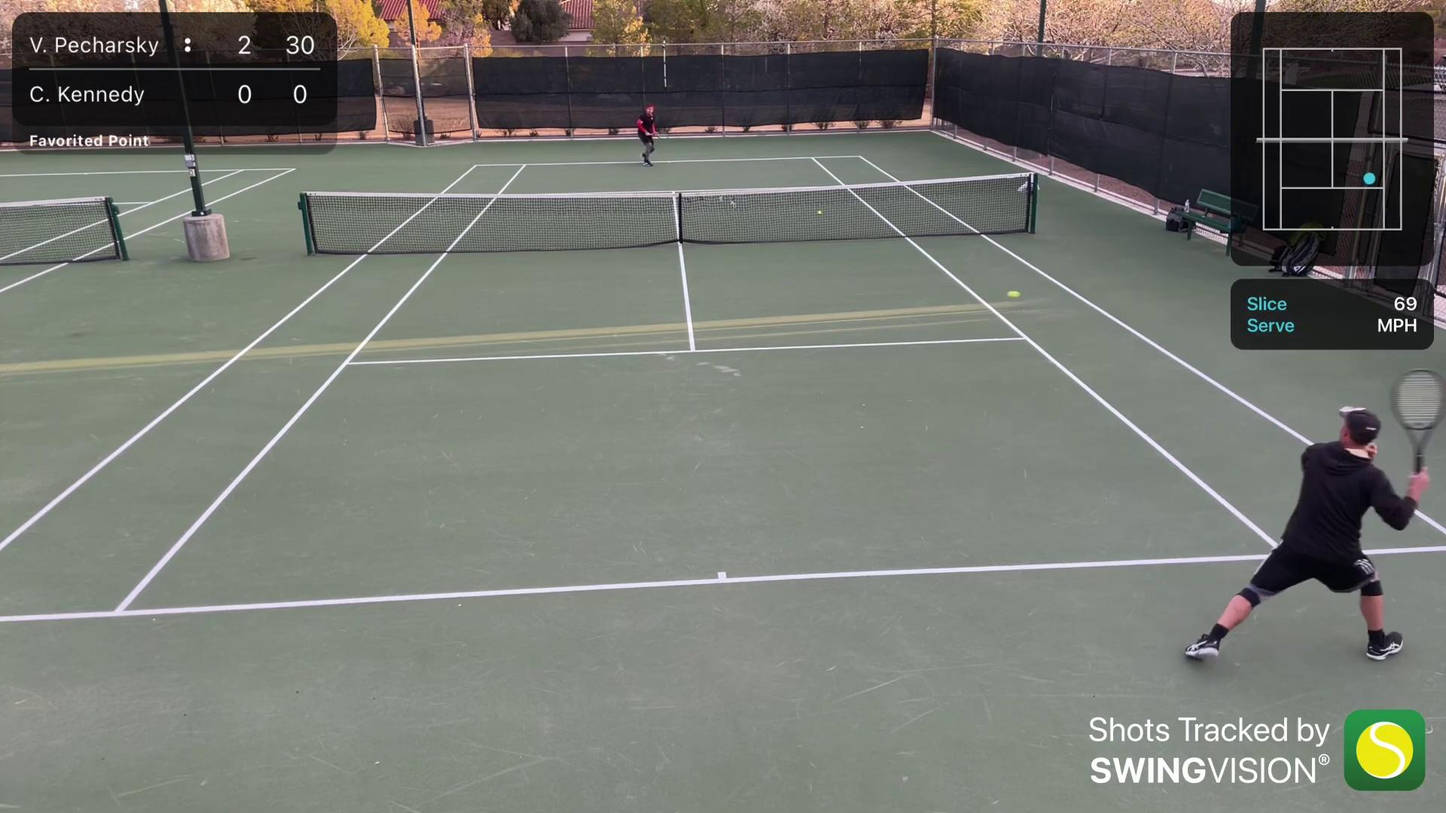ball: (1005, 288, 1020, 301), (816, 210, 823, 215)
